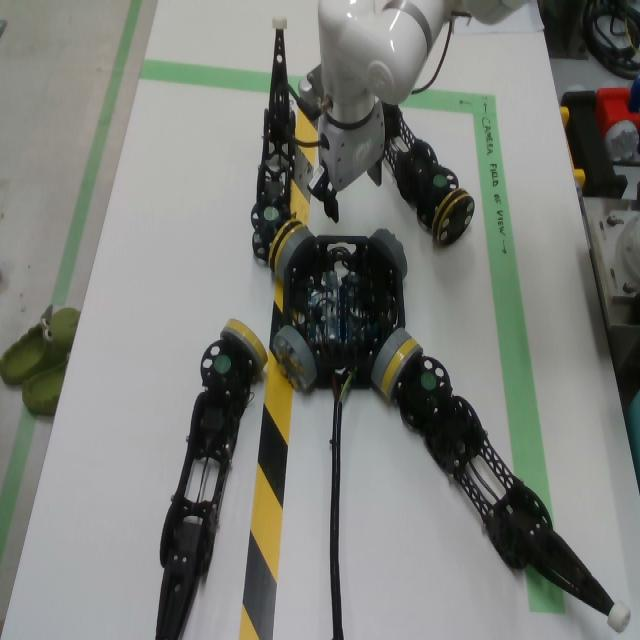body: (284, 236, 405, 389)
body_connector: (273, 325, 317, 391), (371, 328, 411, 387), (369, 229, 408, 280), (277, 227, 315, 277)
gripper: (307, 101, 394, 224)
leg: (380, 337, 632, 633), (154, 320, 267, 640), (250, 11, 304, 273), (384, 107, 474, 248)
leg_connector: (380, 339, 423, 397), (219, 319, 268, 368), (432, 189, 474, 245), (269, 219, 306, 273)
leg_marker: (214, 355, 231, 373), (421, 373, 436, 389), (264, 207, 279, 220), (434, 175, 447, 187)
